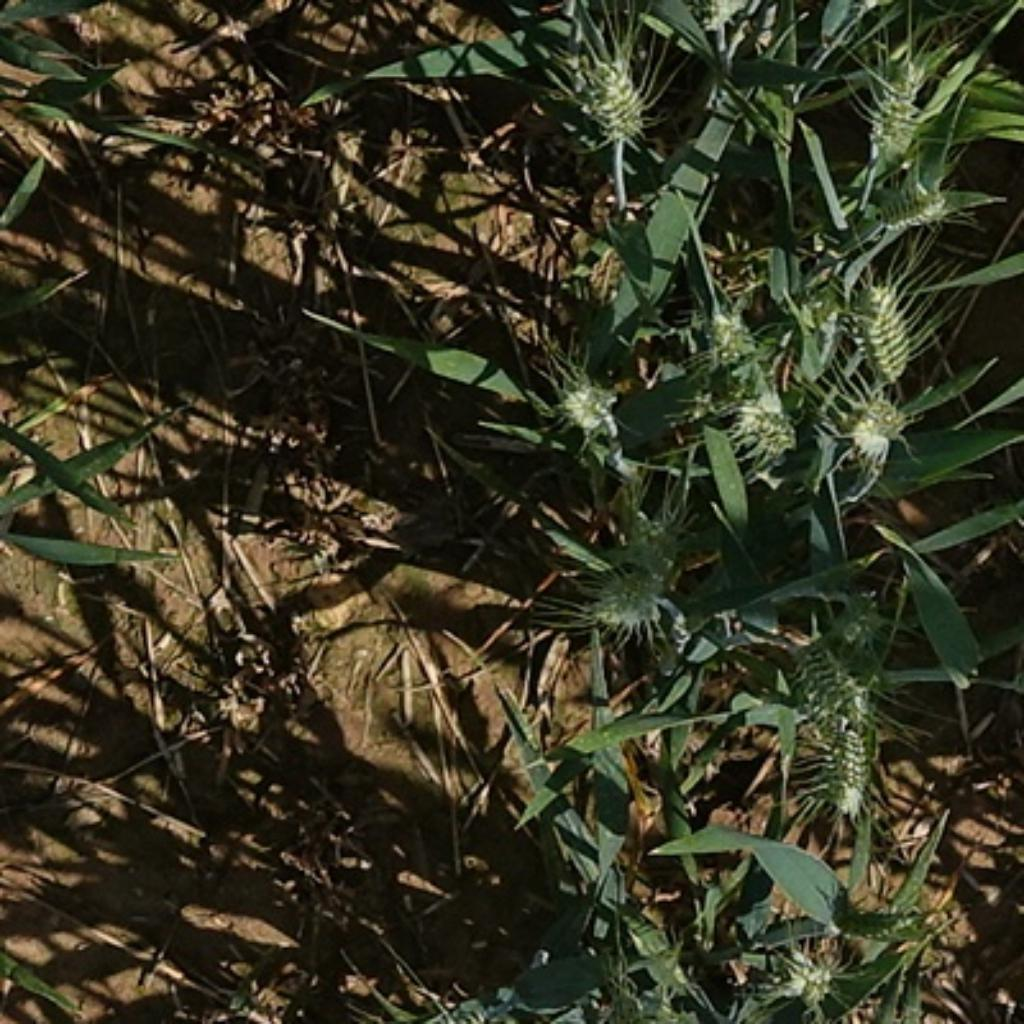0-0: (834, 263, 919, 386), (857, 43, 934, 176), (565, 46, 652, 143), (585, 570, 679, 659), (805, 711, 885, 813), (827, 885, 939, 952), (792, 633, 880, 715), (618, 499, 701, 581), (688, 296, 762, 384), (550, 368, 627, 442), (837, 389, 916, 455), (729, 386, 798, 458), (785, 289, 855, 355), (783, 949, 839, 1006), (874, 190, 945, 228)
